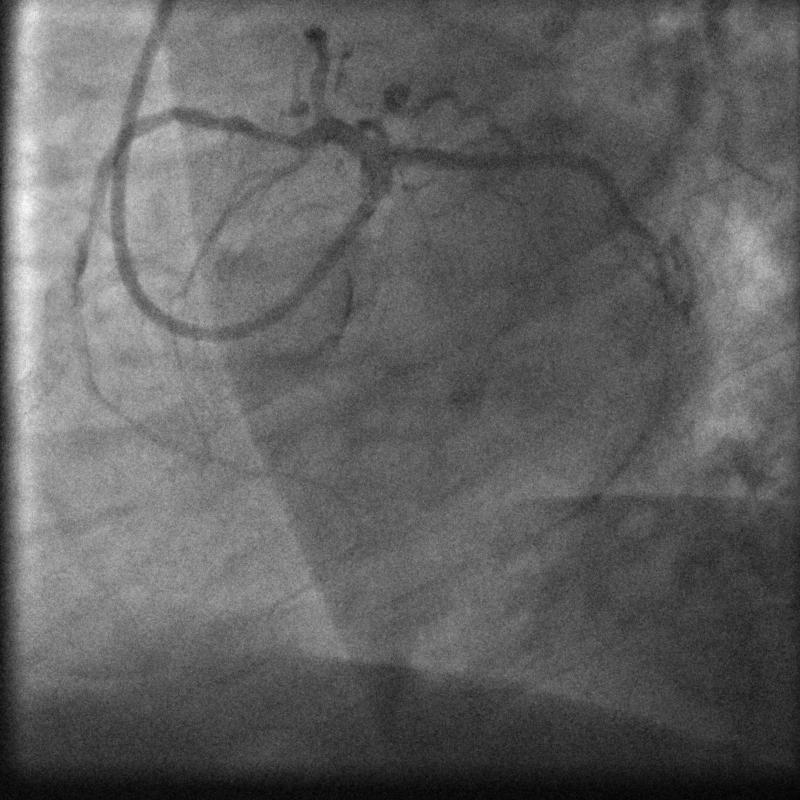Stenosis: (244, 113, 295, 155)
